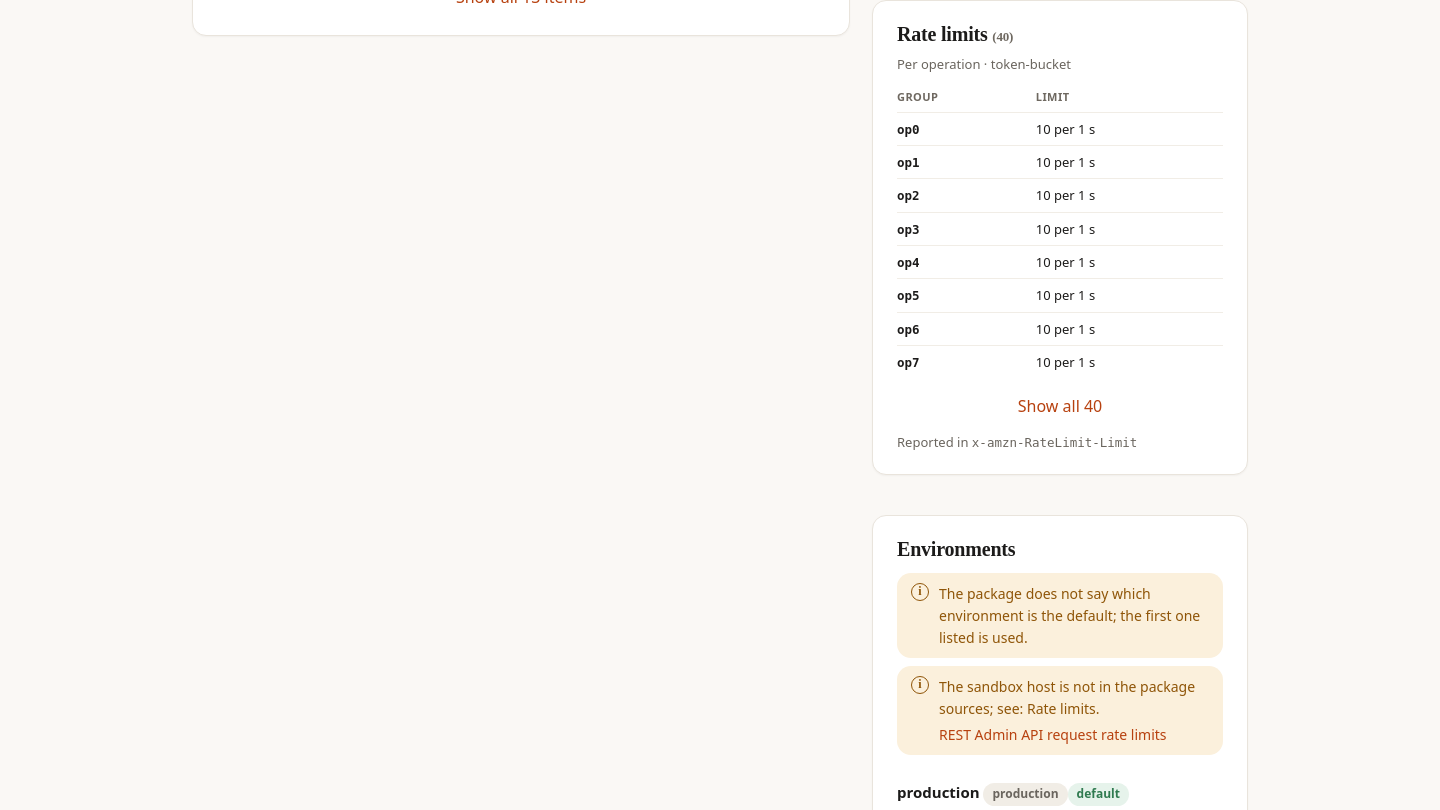
rate limits › a package with a limit per operation: the first rows, the rest on request
(page scrolled)
Expected: the element "Rate limits" shows "Rate limits (40)", top-left (872, 0), bottom-right (1248, 475)
Expected: the text "x-amzn-RateLimit-Limit" is shown once, top-left (972, 435), bottom-right (1137, 450)
Step 1. Click the button "Show all 40" → (1060, 406), box top-left (1018, 394), bottom-right (1102, 416)
(page scrolled)
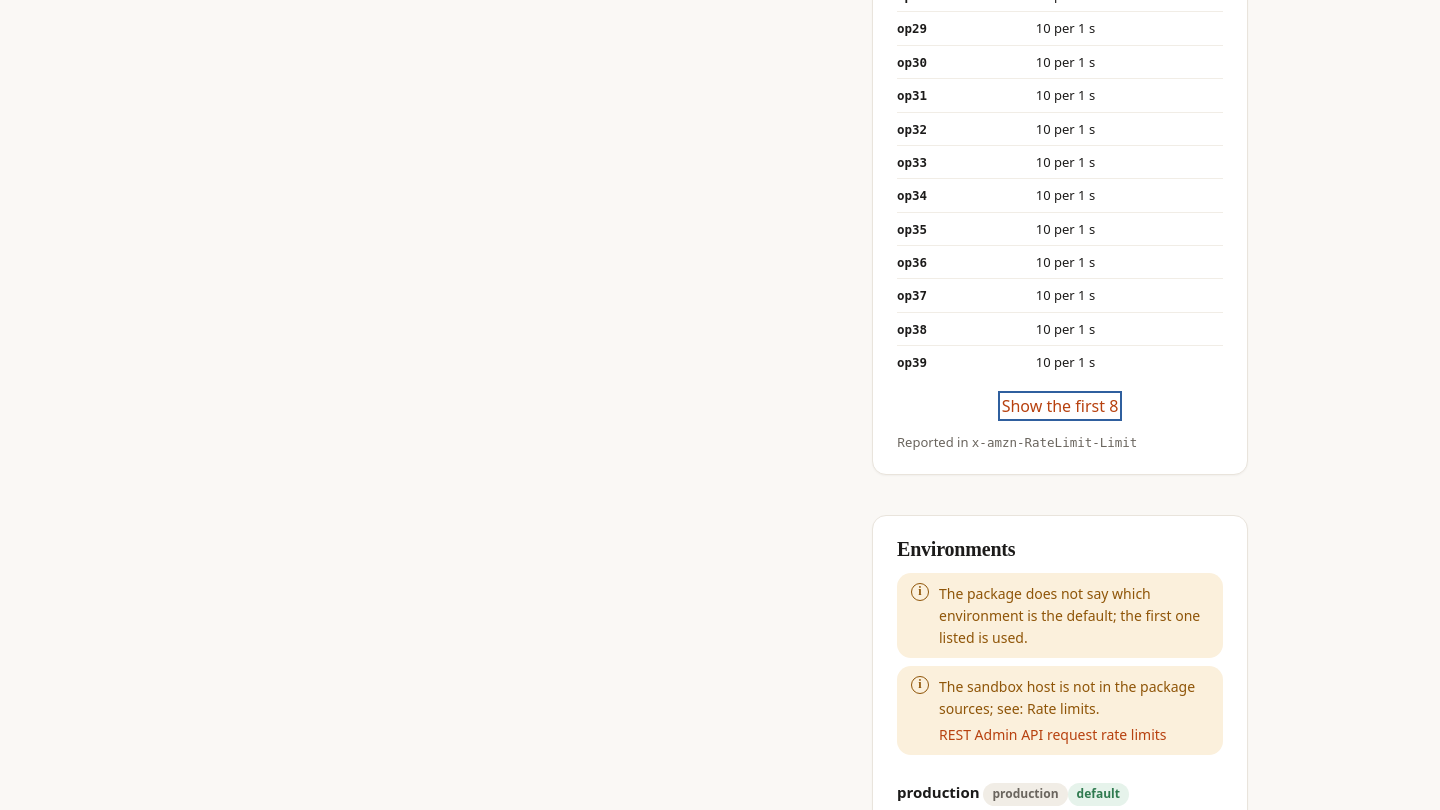
Expected: the button "Show the first 8" is shown, top-left (1002, 394), bottom-right (1118, 416)
